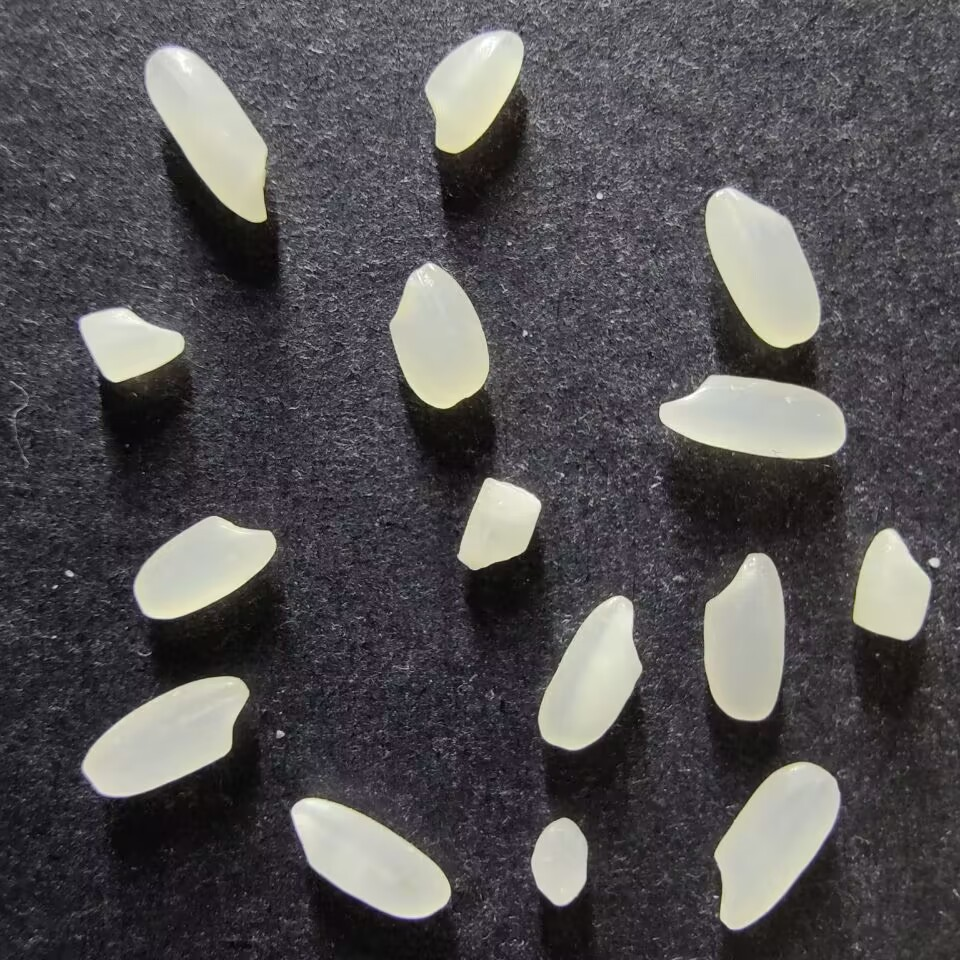broken: (851, 527, 932, 641), (77, 308, 185, 384), (457, 476, 541, 571), (530, 816, 589, 905)
rice: (143, 46, 268, 224), (712, 761, 841, 930), (81, 673, 251, 797), (289, 797, 451, 919), (703, 187, 821, 348), (536, 594, 643, 751), (657, 373, 846, 459), (387, 261, 490, 409), (133, 515, 277, 619), (701, 552, 786, 722), (423, 29, 524, 153)
